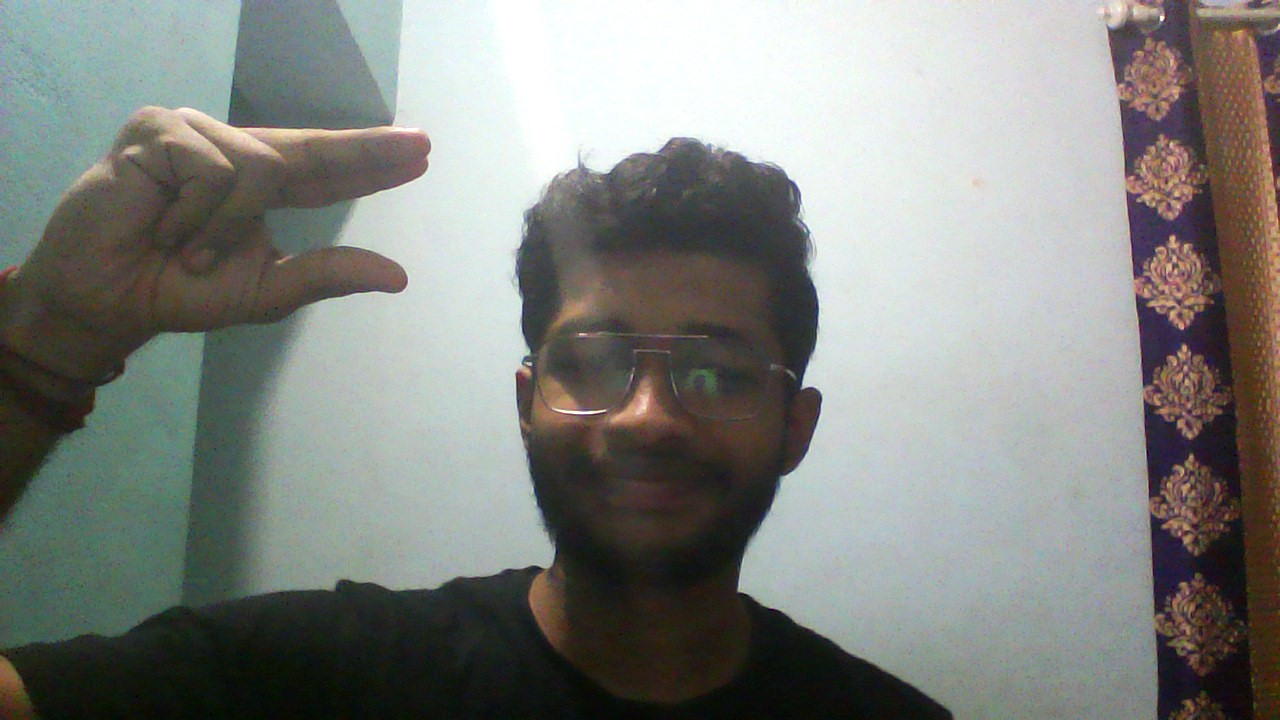No: (35, 104, 438, 334)
